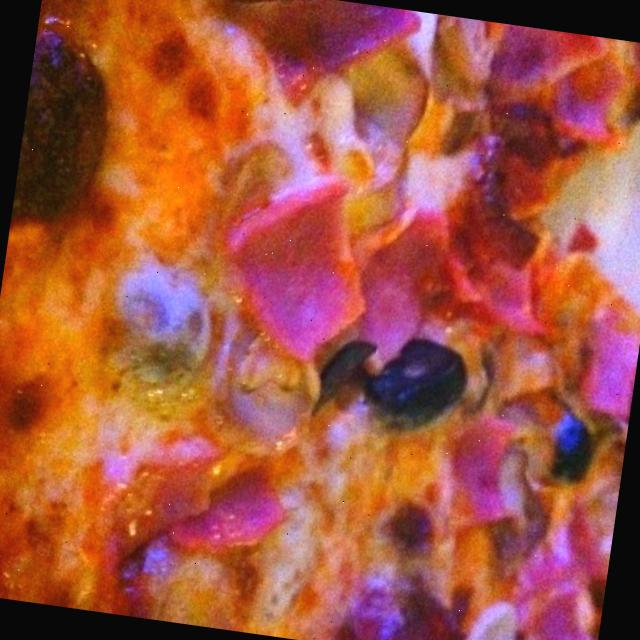Olive: (366, 325, 477, 449), (526, 404, 602, 494), (307, 328, 378, 416)
cheese: (111, 96, 256, 255)
